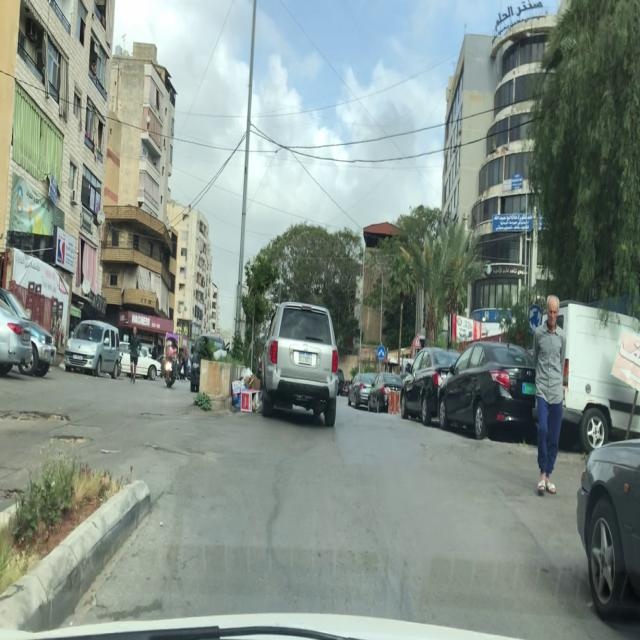Pothole: (0, 405, 74, 427), (48, 432, 94, 448), (138, 411, 164, 420)
